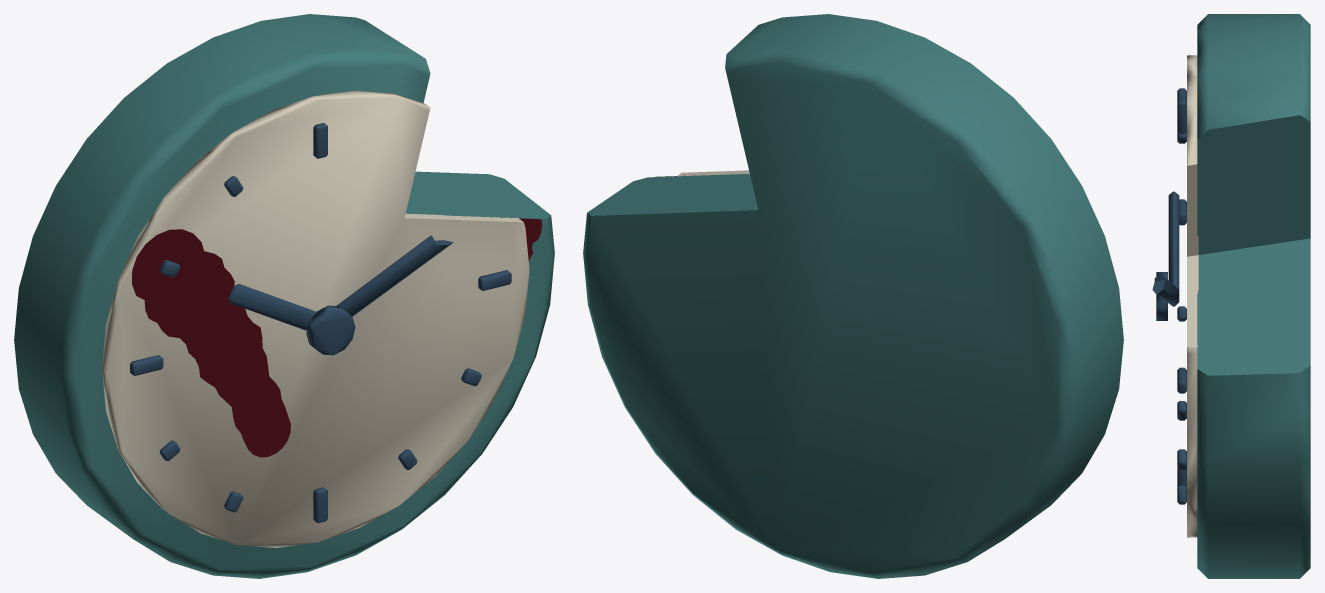
Rendered from wall_clock.glb.
3 views of the same model, side by side, from view 1: azimuth 30°, elevation 25°; view 2: azimuth 150°, elevation 25°; view 3: azimuth 270°, elevation 25° (orthographic).
Parts seen in each view (by area): view 1: OB_RecoveryWallClock_01_Static; view 2: OB_RecoveryWallClock_01_Static; view 3: OB_RecoveryWallClock_01_Static.
Boxes of the visible parts, bbox=[...] form: OB_RecoveryWallClock_01_Static: bbox=[14, 14, 554, 578]; OB_RecoveryWallClock_01_Static: bbox=[583, 14, 1123, 578]; OB_RecoveryWallClock_01_Static: bbox=[1152, 14, 1310, 578].
Size of the model in its own units: 0.48 by 0.48 by 0.1342.
